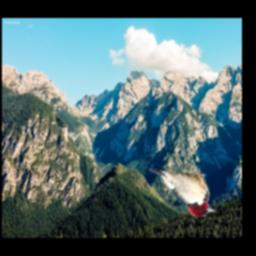Woodpecker: (149, 168, 218, 216)
